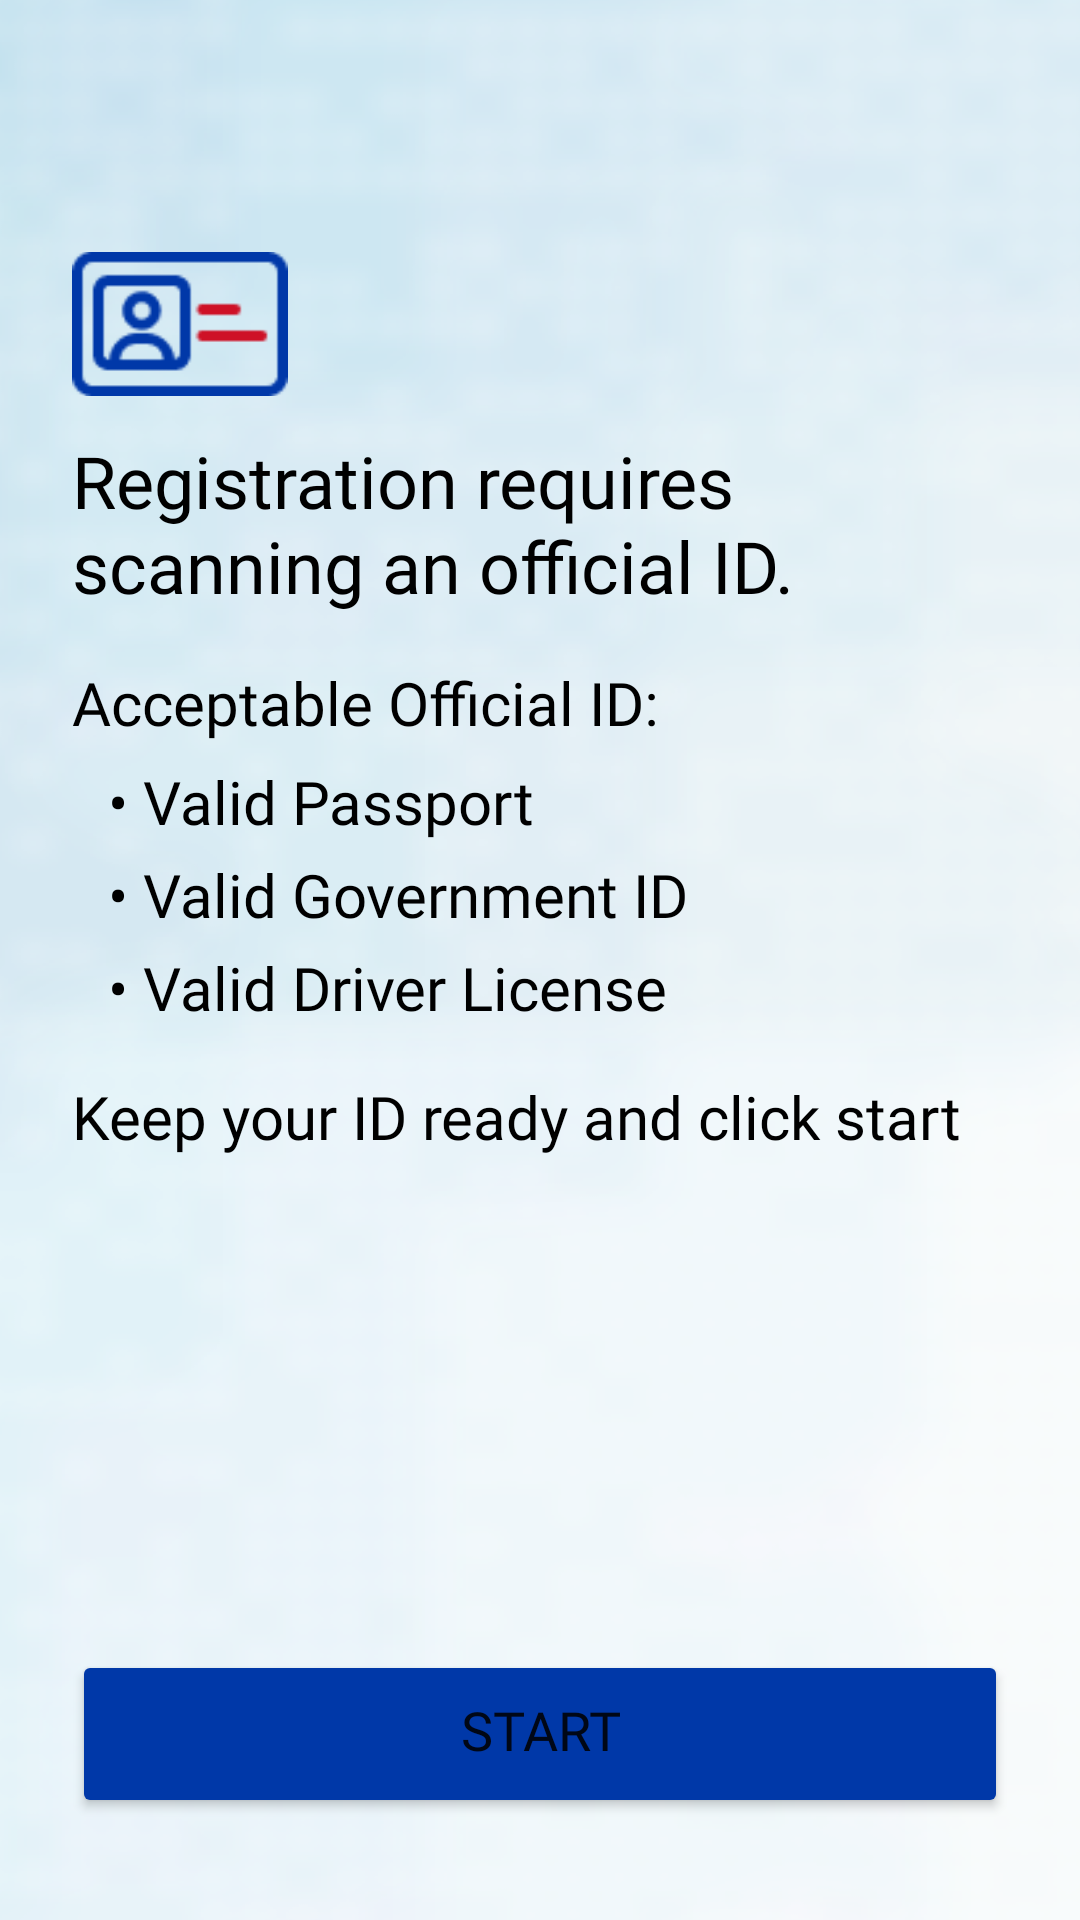

Icons on this 1080px x 1920px Android screen, each with its box as (x1, y1, x2, y2):
idicon: (72, 252, 288, 396)
